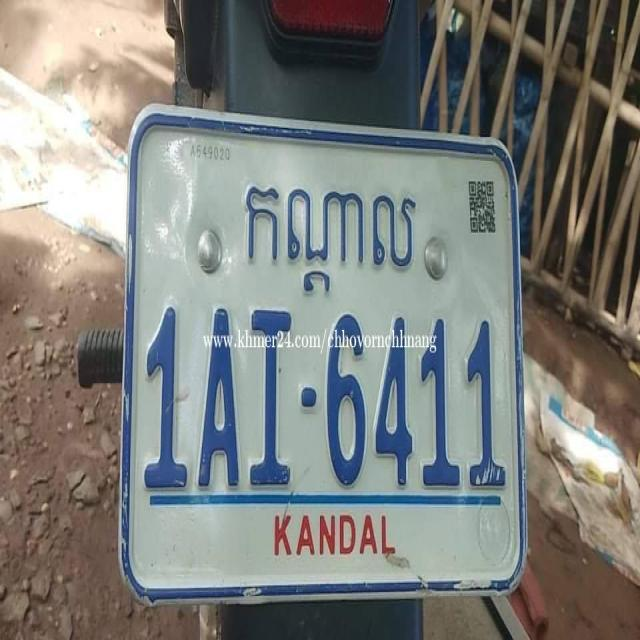Kandal: (247, 182, 416, 292)
